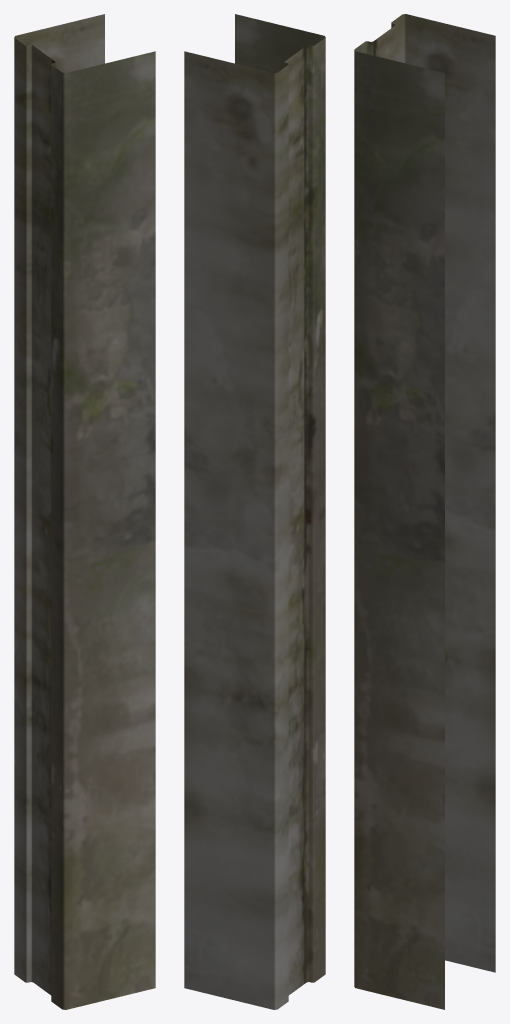
File: Psychiatric_Ward_Guards_Room_Exterior_Pillar_1.glb
3 views of the same model, side by side, from view 1: azimuth 30°, elevation 25°; view 2: azimuth 150°, elevation 25°; view 3: azimuth 330°, elevation 25° (orthographic).
Parts seen in each view (by area): view 1: Psychiatric_Ward_Guards_Room_Exterior_Pillar_1; view 2: Psychiatric_Ward_Guards_Room_Exterior_Pillar_1; view 3: Psychiatric_Ward_Guards_Room_Exterior_Pillar_1.
Part boxes in pixels (x1,y1,x2,y2): Psychiatric_Ward_Guards_Room_Exterior_Pillar_1: (14, 14, 155, 1009); Psychiatric_Ward_Guards_Room_Exterior_Pillar_1: (184, 14, 325, 1009); Psychiatric_Ward_Guards_Room_Exterior_Pillar_1: (354, 14, 495, 1009).
Bounding box in the file's own units: 0.2308 × 2.24 × 0.2208.
1 material, 1 textured.
